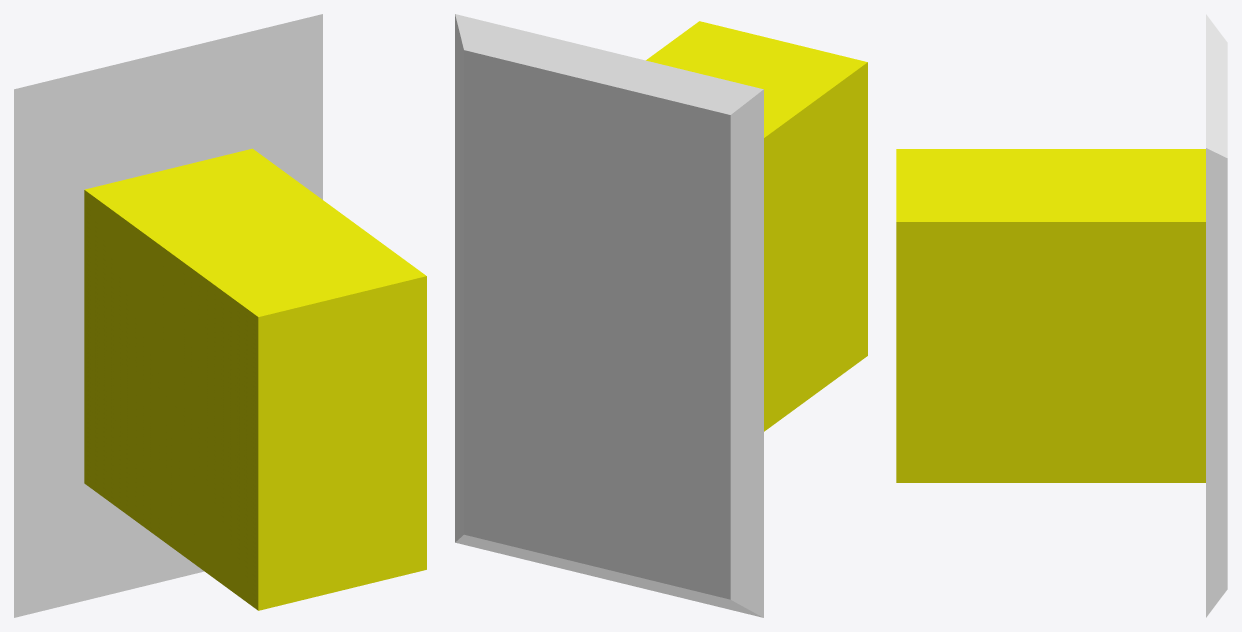
The picture shows the model from 3 angles, left to right: view 1: azimuth 30°, elevation 25°; view 2: azimuth 150°, elevation 25°; view 3: azimuth 270°, elevation 25°; orthographic projection. The views are drawn at different scales.
Bounding box in the file's own units: 0.2292 × 0.375 × 0.2396.
